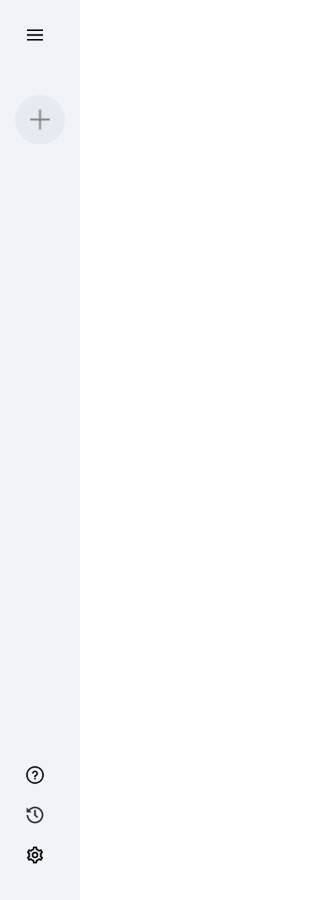
Test case: Sidebar Component › toggles the sidebar when the menu icon is clicked
Expected: the text "New Chat" is not shown
// Click the menu icon to expand the sidebar
Click the picture with alt text "Menu Icon" at (35, 35), box [25,25,45,45]
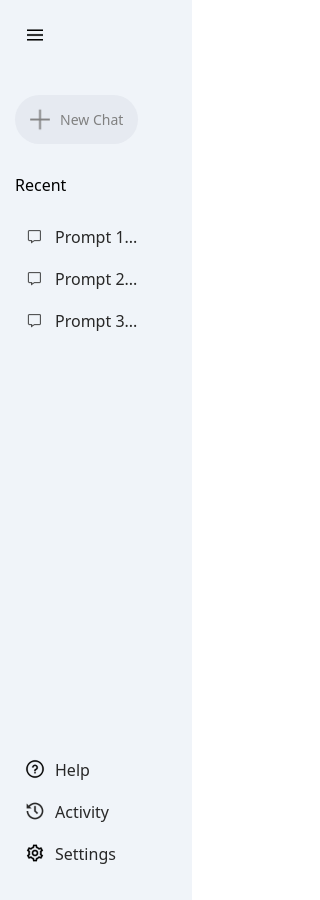
Now the text "New Chat" is shown, box [60,110,123,129]
